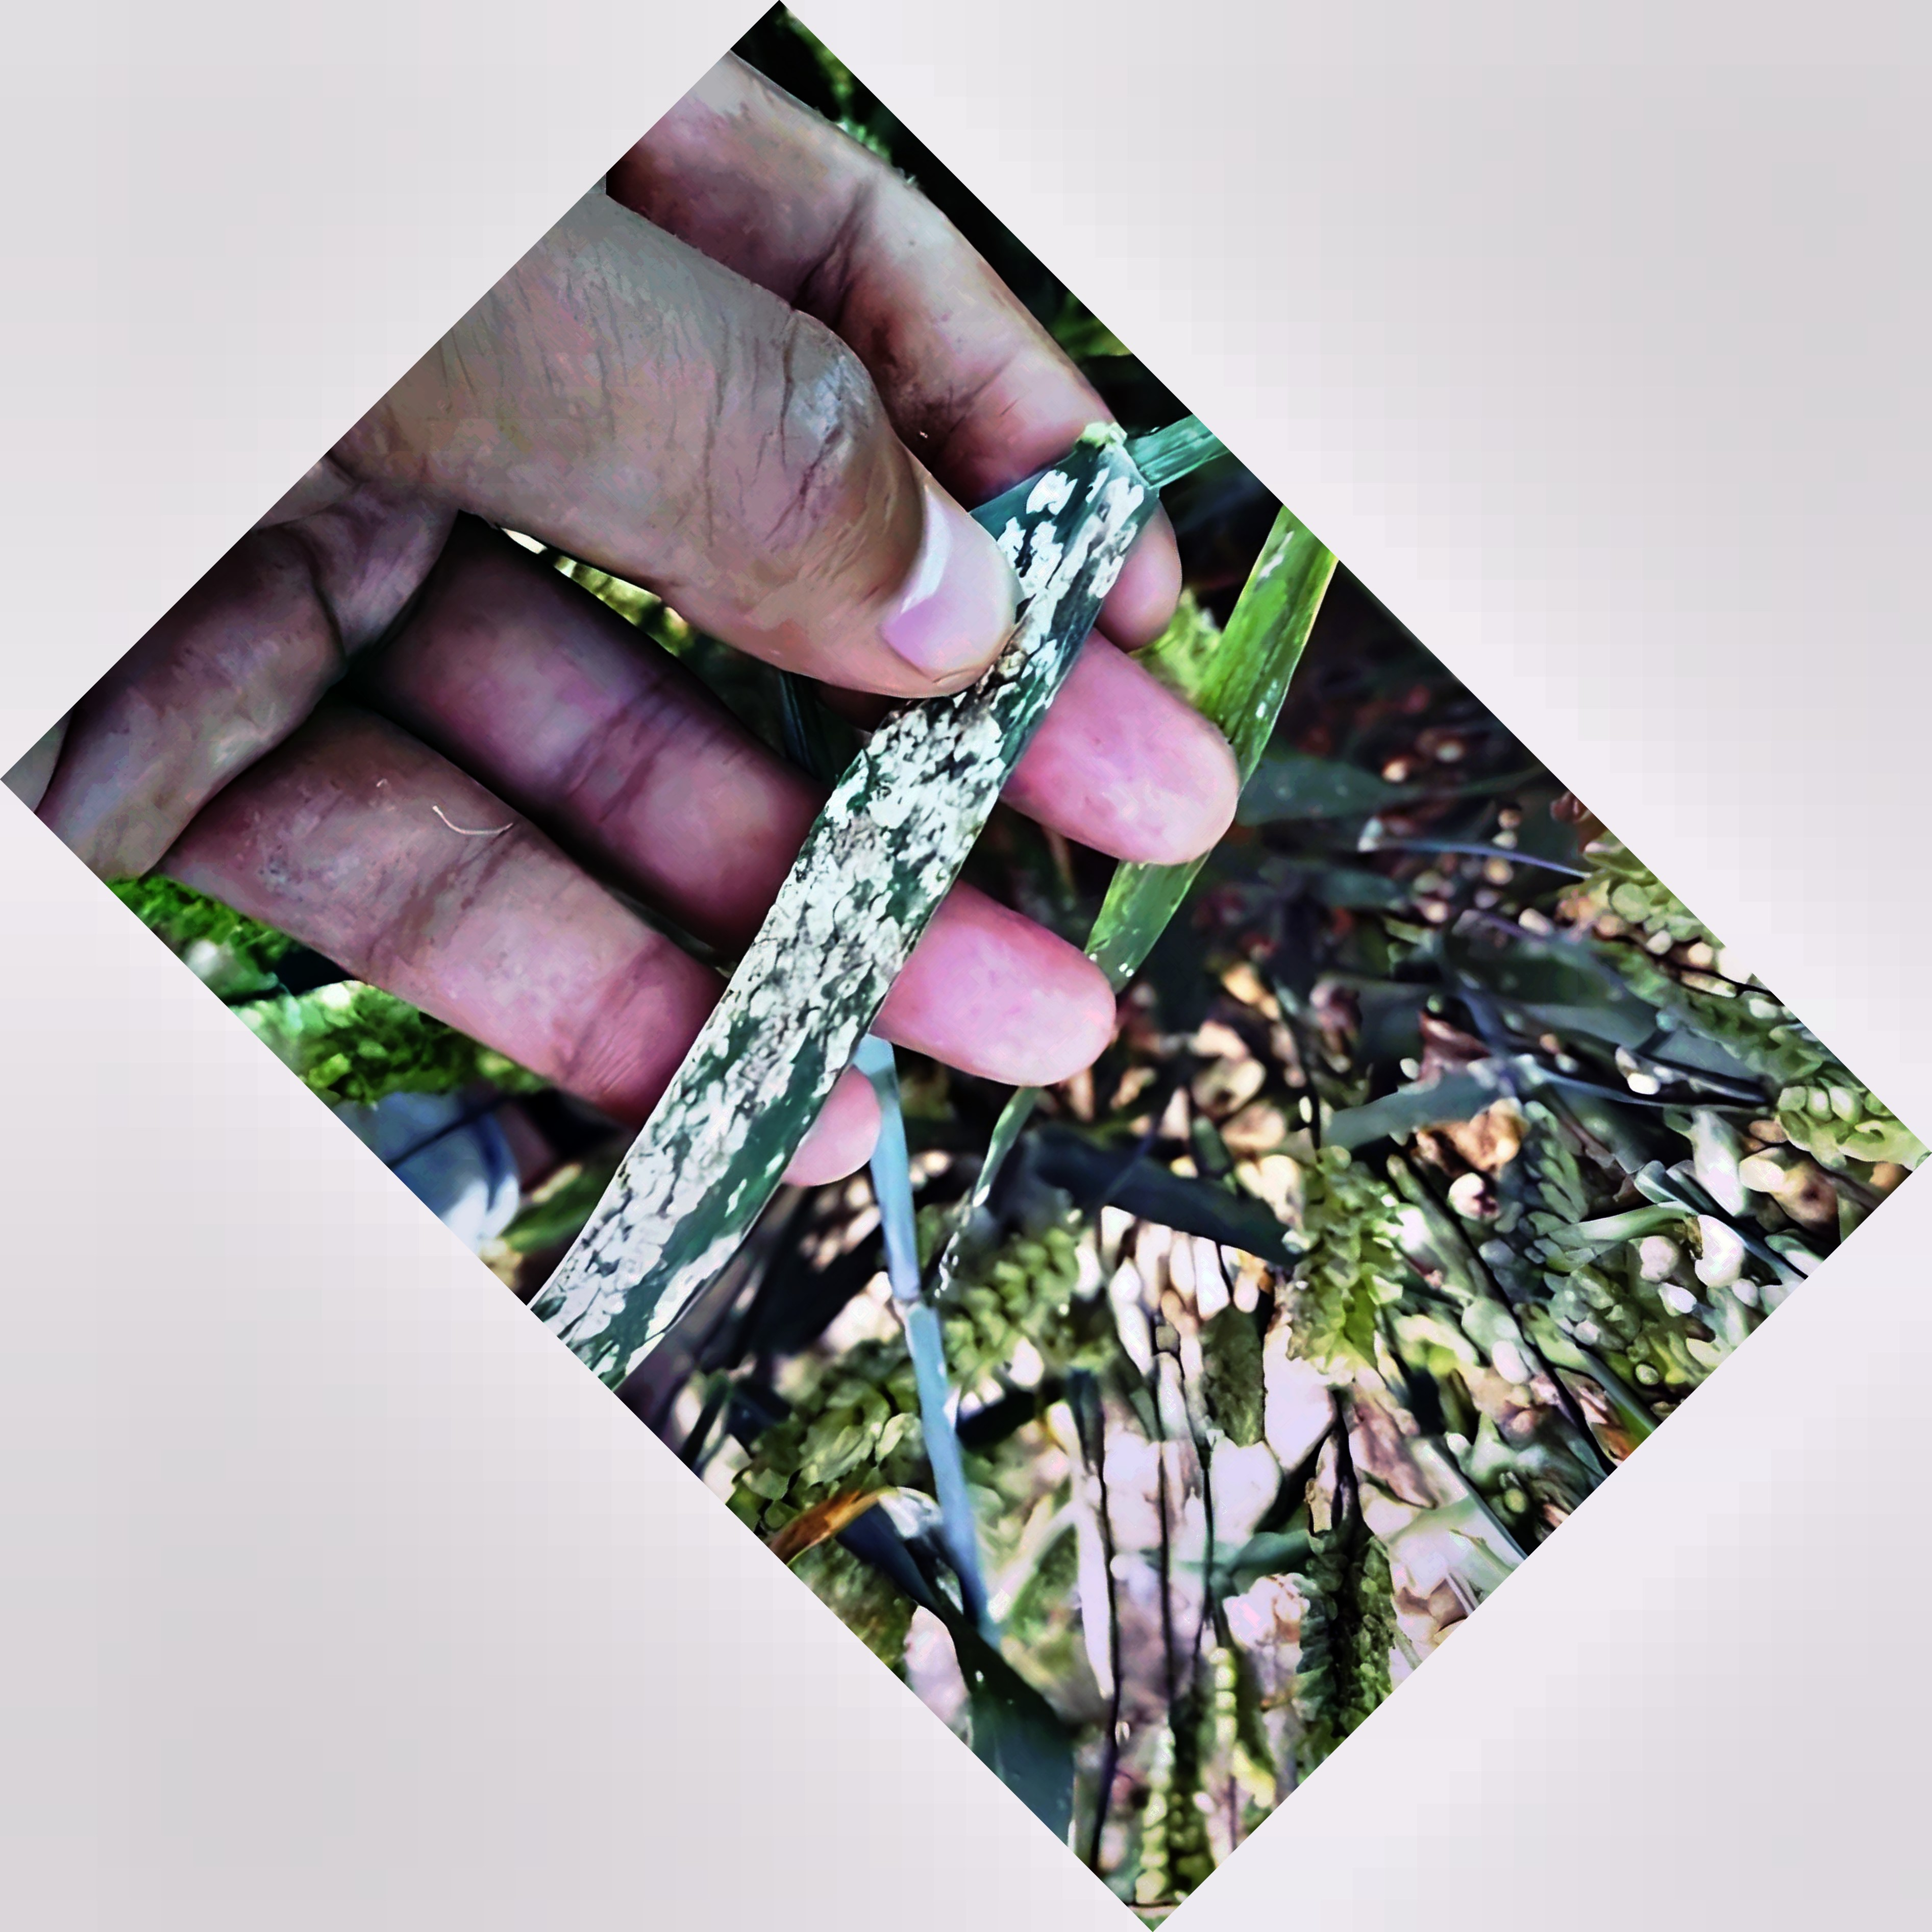Powdery Mildew: (571, 485, 1131, 1355)
